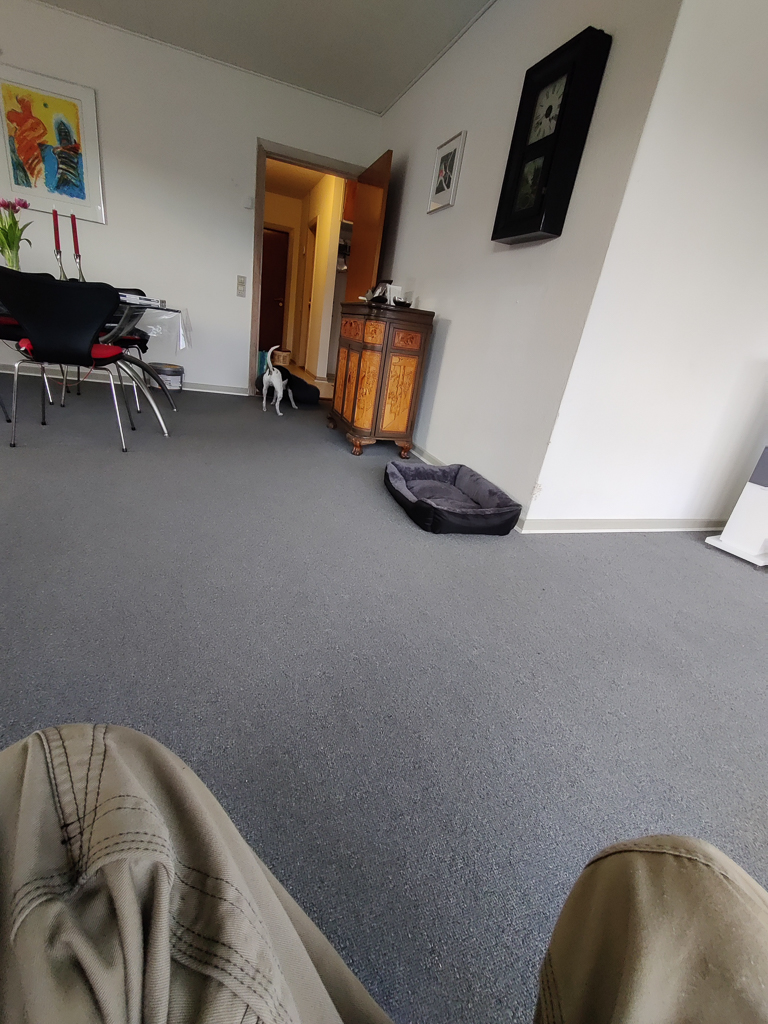Dog: (258, 343, 305, 417)
Humanoid: (0, 705, 768, 1024)
